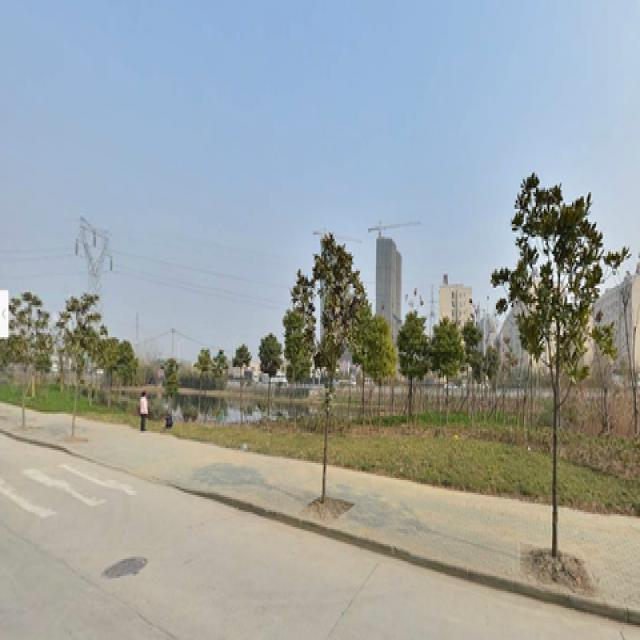magn: (517, 192, 592, 589), (299, 250, 348, 499)
